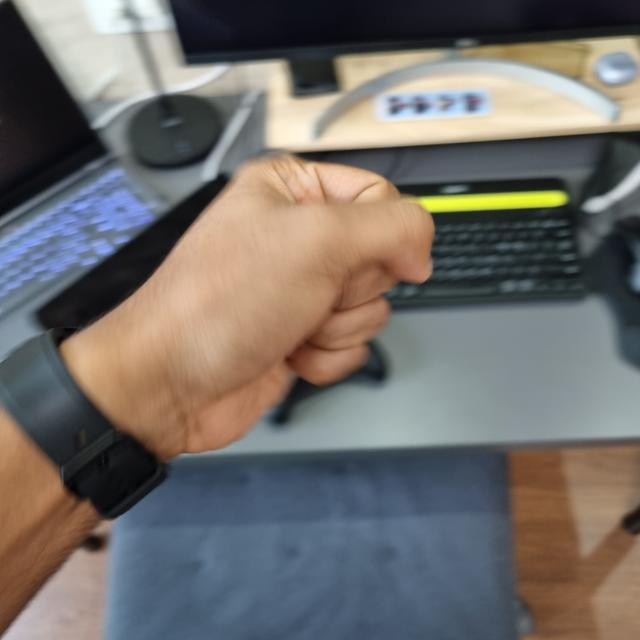Rock: (75, 158, 432, 454)
